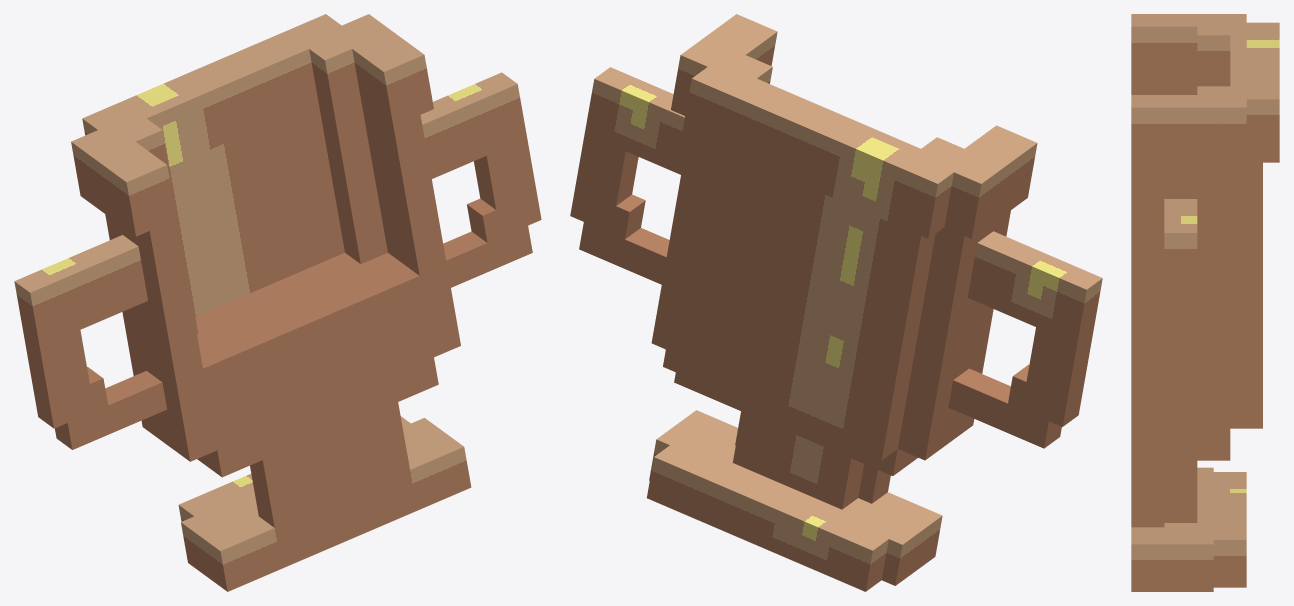
Rendered from icon_trophy_bronze.gltf.
3 views of the same model, side by side, from view 1: azimuth 30°, elevation 25°; view 2: azimuth 150°, elevation 25°; view 3: azimuth 270°, elevation 25° (orthographic). The views are drawn at different scales.
Visible parts, largest first — view 1: Icon-Local; view 2: Icon-Local; view 3: Icon-Local.
Boxes of the visible parts, bbox=[...] form: Icon-Local: bbox=[14, 14, 541, 591]; Icon-Local: bbox=[570, 14, 1102, 591]; Icon-Local: bbox=[1131, 14, 1279, 591].
Bounding box in the file's own units: 37.19 × 34 × 9.
Materials: 1 (1 with a texture image).
